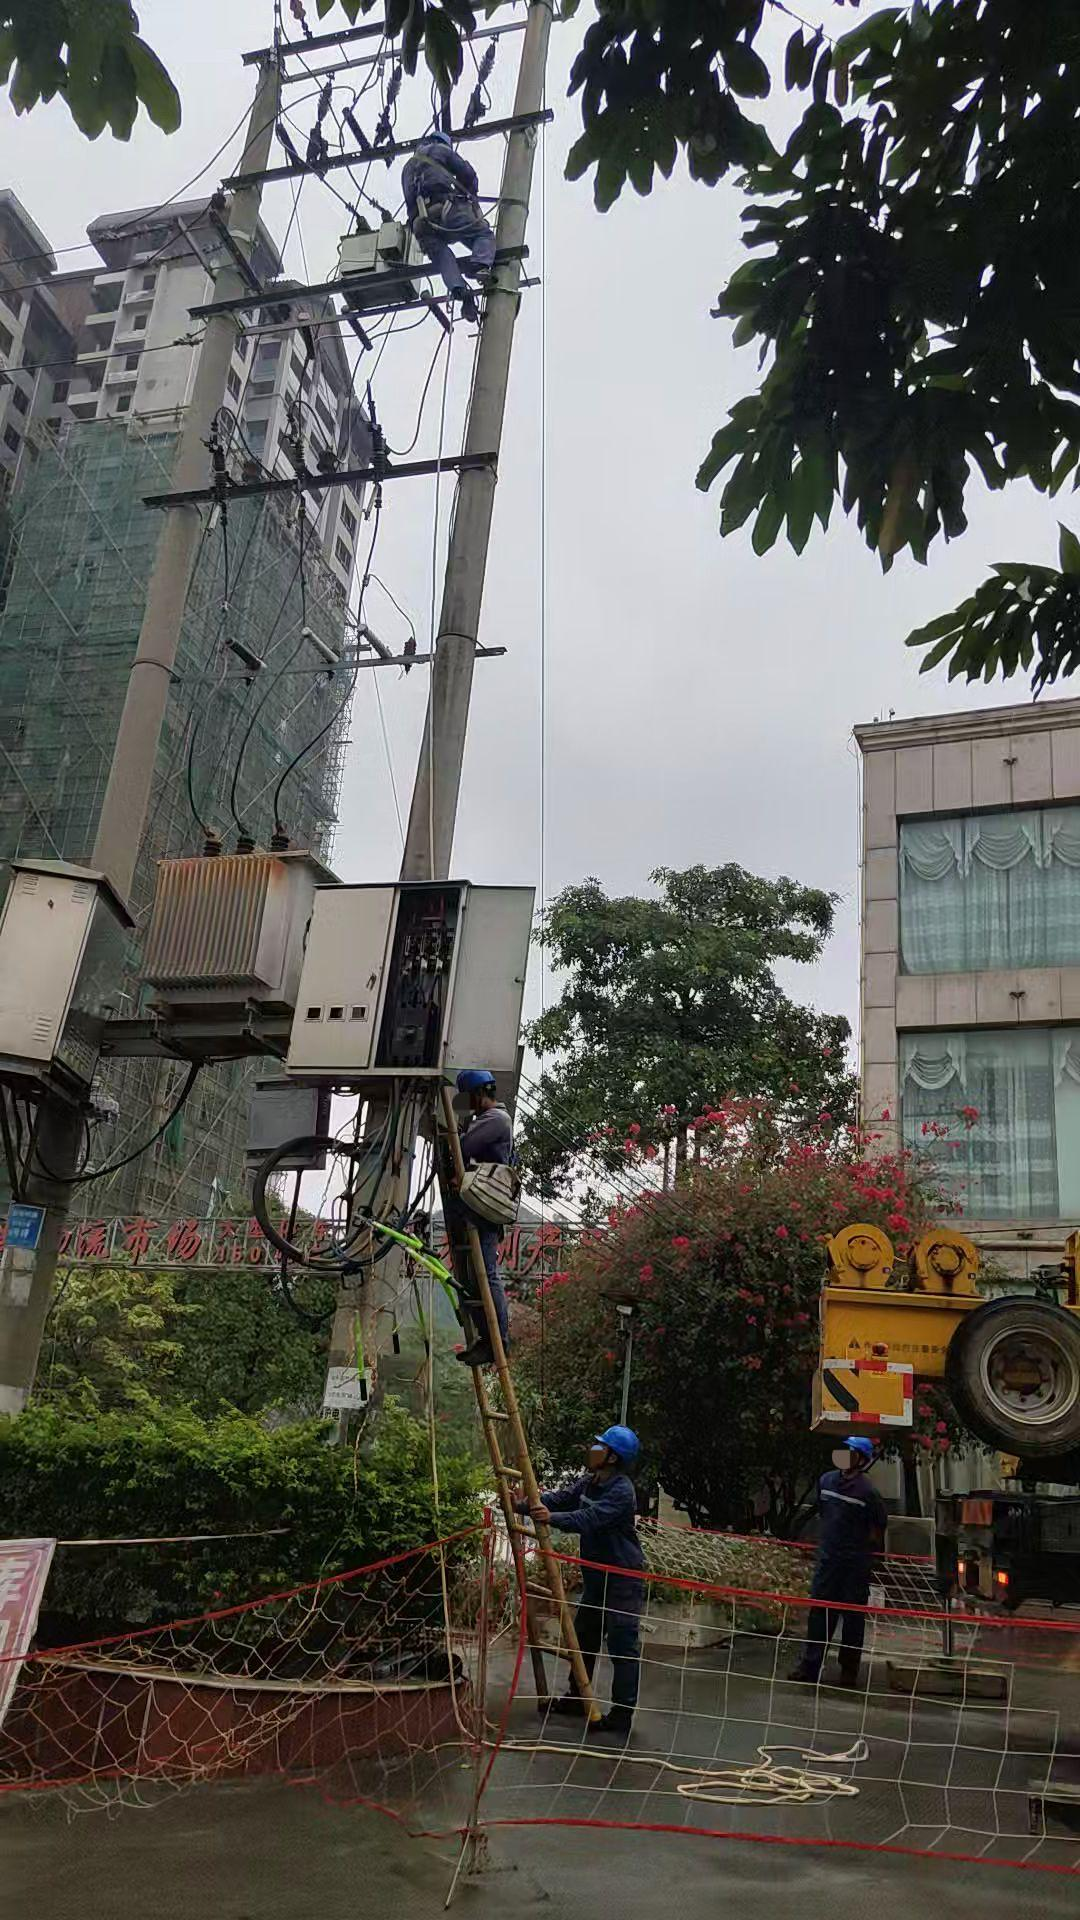halt: (592, 1428, 644, 1474), (459, 1069, 498, 1116), (840, 1436, 878, 1476)
